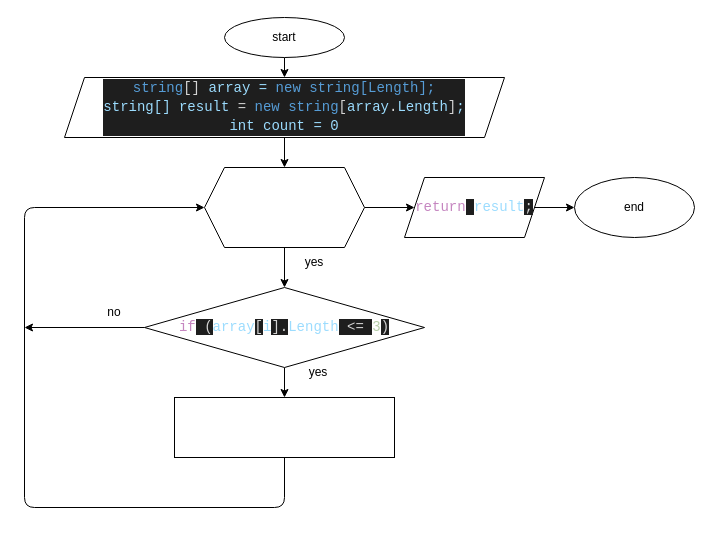
Image size: 712x533. Some labels were removed from this diagram. The shapes that lost their labels are listed below. From the top down, each one's centre as x and y in pixels, then its label:
the point at 284,207: for (int i = 0 ; i < array . Length ; i ++)
the point at 284,427: result [ count ]= array [ i ]; count ++;
